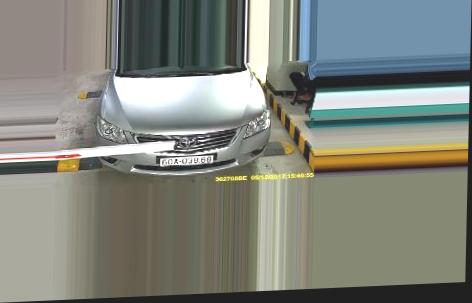License_Plate: (160, 152, 216, 168)
